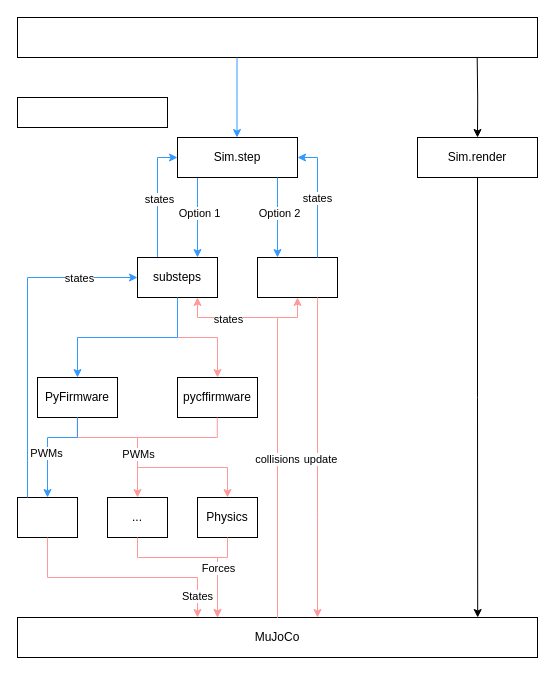
Image size: 555x675. Some labels were removed from this diagram. The shapes that lost their labels are listed below. From the top down, each one's centre as x and y in pixels, then its label:
At [277,37]: "External Package".
At [92,112]: "Blue : Differentiable Red : Not differentiable".
At [297,277]: "step_sys_id".
At [47,517]: "Analytical".
